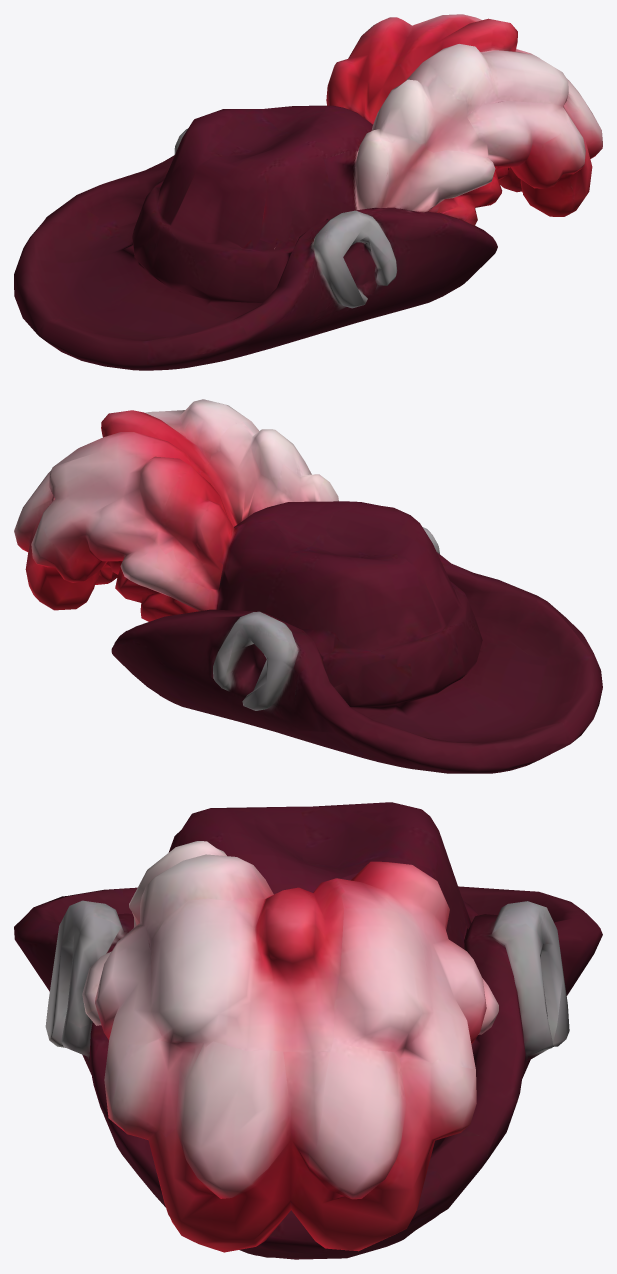
The model's file is hat_cavalier-CPBLgei-.glb.
3 views of the same model, one above another, from view 1: azimuth 30°, elevation 25°; view 2: azimuth 150°, elevation 25°; view 3: azimuth 270°, elevation 25° (orthographic). The views are drawn at different scales.
Parts seen in each view (by area): view 1: tripo_node_e1211834-47d9-42e2-b553-b5fc6af02399; view 2: tripo_node_e1211834-47d9-42e2-b553-b5fc6af02399; view 3: tripo_node_e1211834-47d9-42e2-b553-b5fc6af02399.
Part boxes in pixels (x1,y1,x2,y2): tripo_node_e1211834-47d9-42e2-b553-b5fc6af02399: (14,14,602,370); tripo_node_e1211834-47d9-42e2-b553-b5fc6af02399: (14,399,602,773); tripo_node_e1211834-47d9-42e2-b553-b5fc6af02399: (14,802,602,1259).
Bounding box in the file's own units: 1 × 0.4457 × 0.5897.
Materials: 1 (1 with a texture image).
